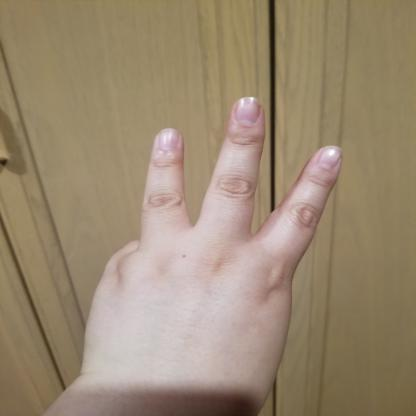W: (69, 93, 349, 415)
